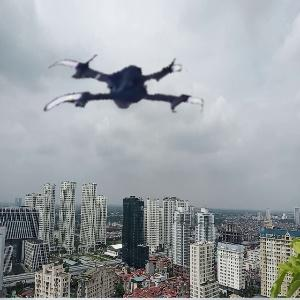drone: (44, 25, 201, 182)
